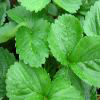Strawberry leaf: (48, 11, 84, 70), (5, 58, 52, 99), (14, 17, 50, 68)
